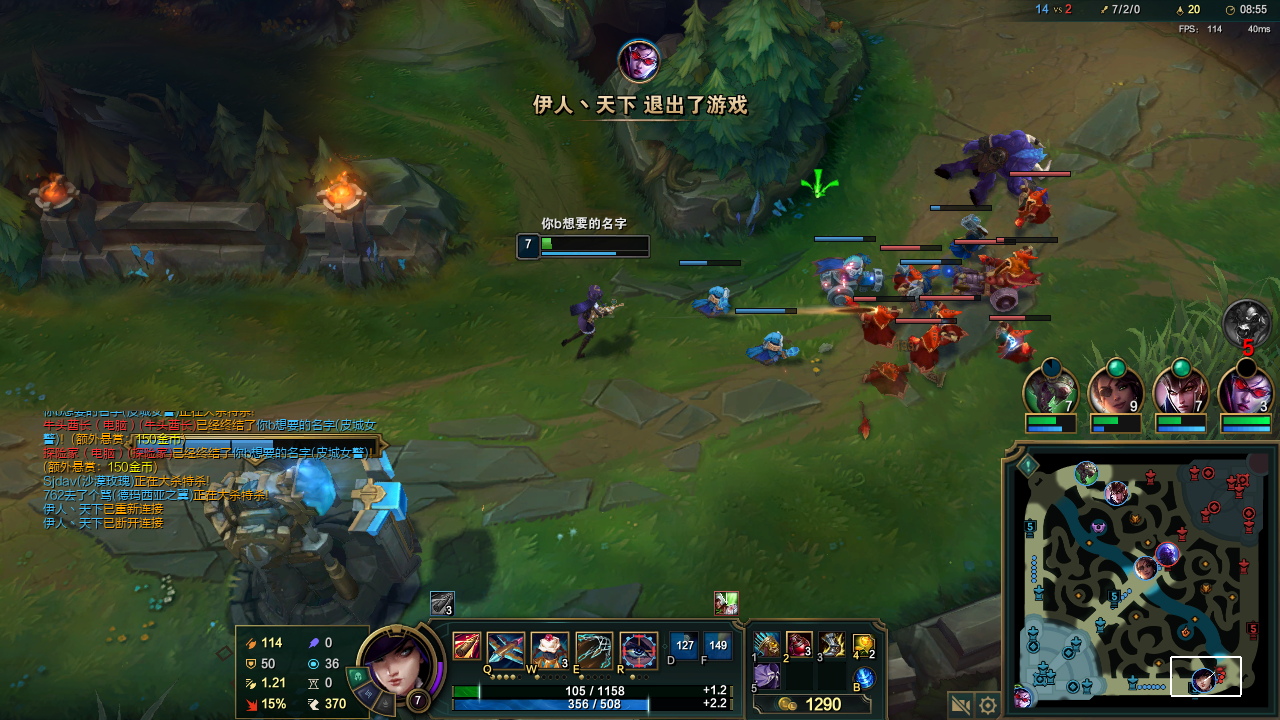DFXB: (954, 257, 1026, 307), (988, 318, 1031, 361), (905, 324, 938, 370), (865, 307, 894, 339), (1026, 189, 1052, 224), (927, 315, 962, 340), (1008, 244, 1033, 273)
WFXB: (819, 254, 881, 298), (942, 210, 986, 252), (753, 330, 795, 368), (903, 270, 944, 307), (696, 287, 730, 320)
